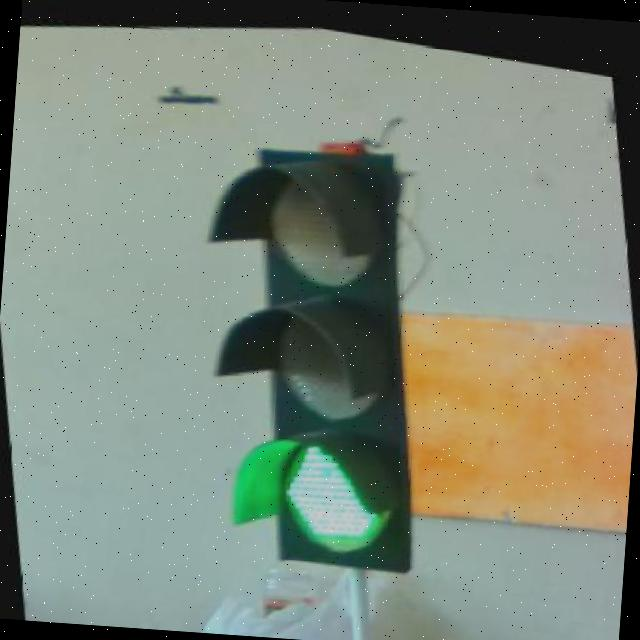green_light: (165, 114, 459, 590)
